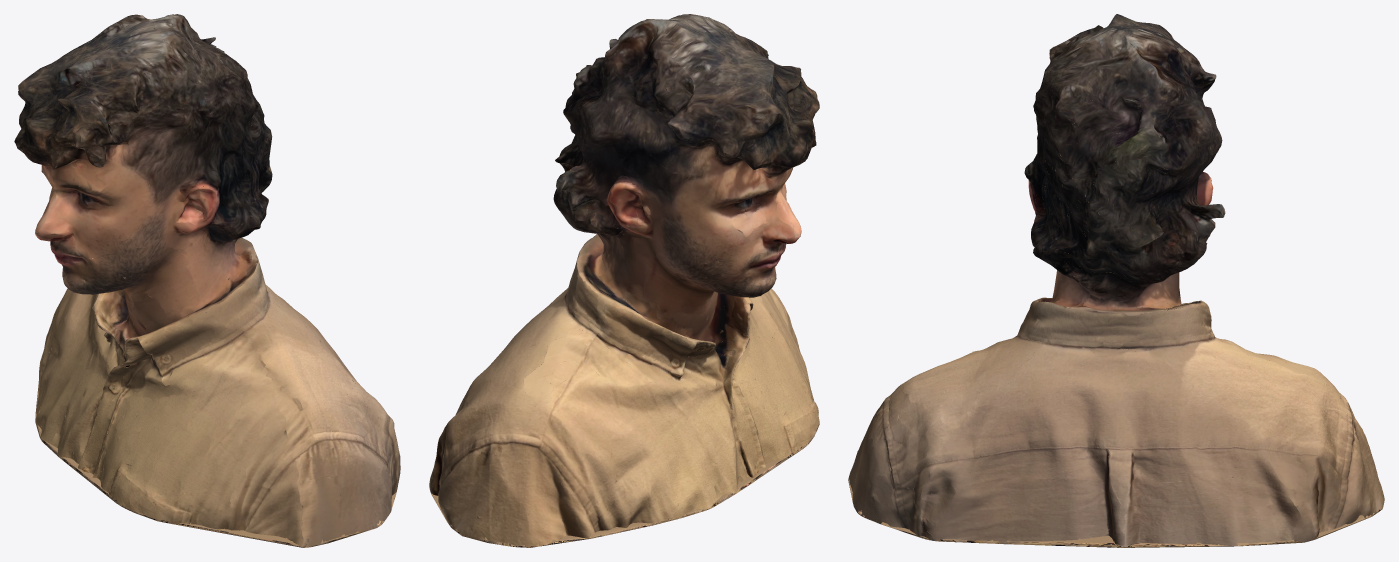
The model's file is mattia.glb.
3 views of the same model, side by side, from view 1: azimuth 30°, elevation 25°; view 2: azimuth 150°, elevation 25°; view 3: azimuth 270°, elevation 25° (orthographic). The views are drawn at different scales.
Visible parts, largest first — view 1: simplified; view 2: simplified; view 3: simplified.
Part boxes in pixels (left/top/right/bottom): simplified: left=14, top=14, right=400, bottom=547; simplified: left=429, top=14, right=819, bottom=547; simplified: left=848, top=14, right=1384, bottom=547.
Bounding box in the file's own units: 0.3419 × 0.4803 × 0.5397.
Materials: 1 (1 with a texture image).
